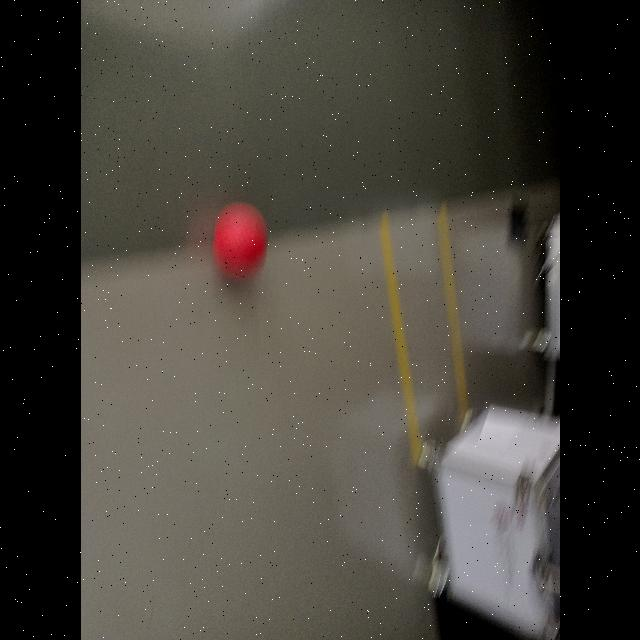R: (212, 201, 270, 279)
